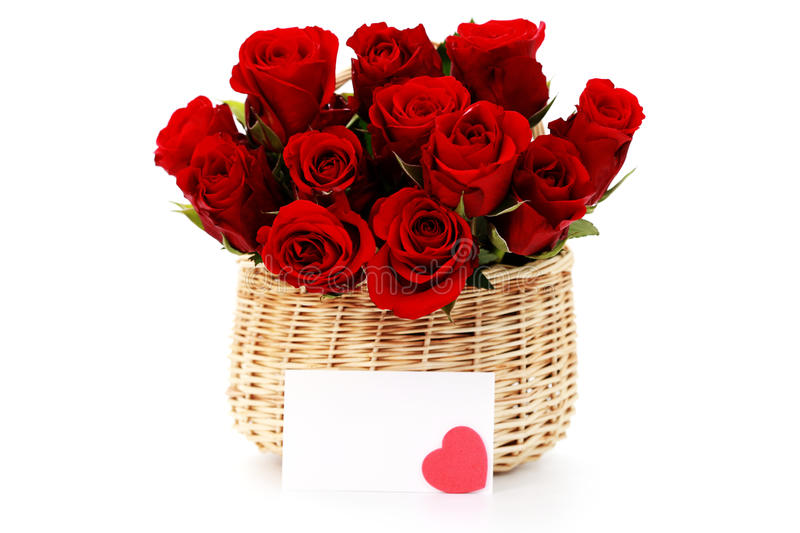RedRose: (253, 185, 378, 304), (359, 186, 468, 317), (494, 131, 600, 257), (446, 5, 558, 124), (229, 22, 355, 125), (423, 101, 527, 223), (556, 69, 649, 200), (177, 142, 275, 251), (335, 7, 445, 100), (366, 70, 468, 160), (275, 122, 373, 215), (147, 94, 234, 172)
